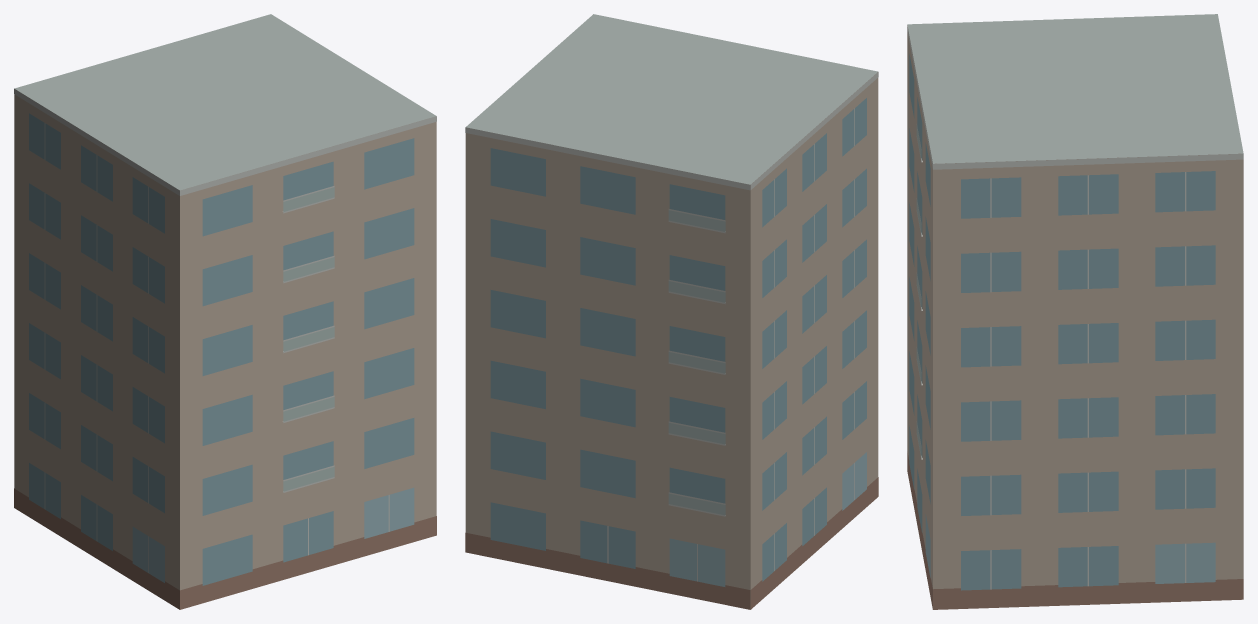
File: survey-upis-32993333.glb
3 views of the same model, side by side, from view 1: azimuth 30°, elevation 25°; view 2: azimuth 150°, elevation 25°; view 3: azimuth 270°, elevation 25° (orthographic). The views are drawn at different scales.
Visible parts, largest first — view 1: survey-upis-32993333.tmp; view 2: survey-upis-32993333.tmp; view 3: survey-upis-32993333.tmp.
Part boxes in pixels (bbox=[...]): survey-upis-32993333.tmp: bbox=[14, 14, 436, 609]; survey-upis-32993333.tmp: bbox=[465, 14, 878, 609]; survey-upis-32993333.tmp: bbox=[907, 14, 1243, 609].
Size of the model in its own units: 13.19 by 18.3 by 12.52.
